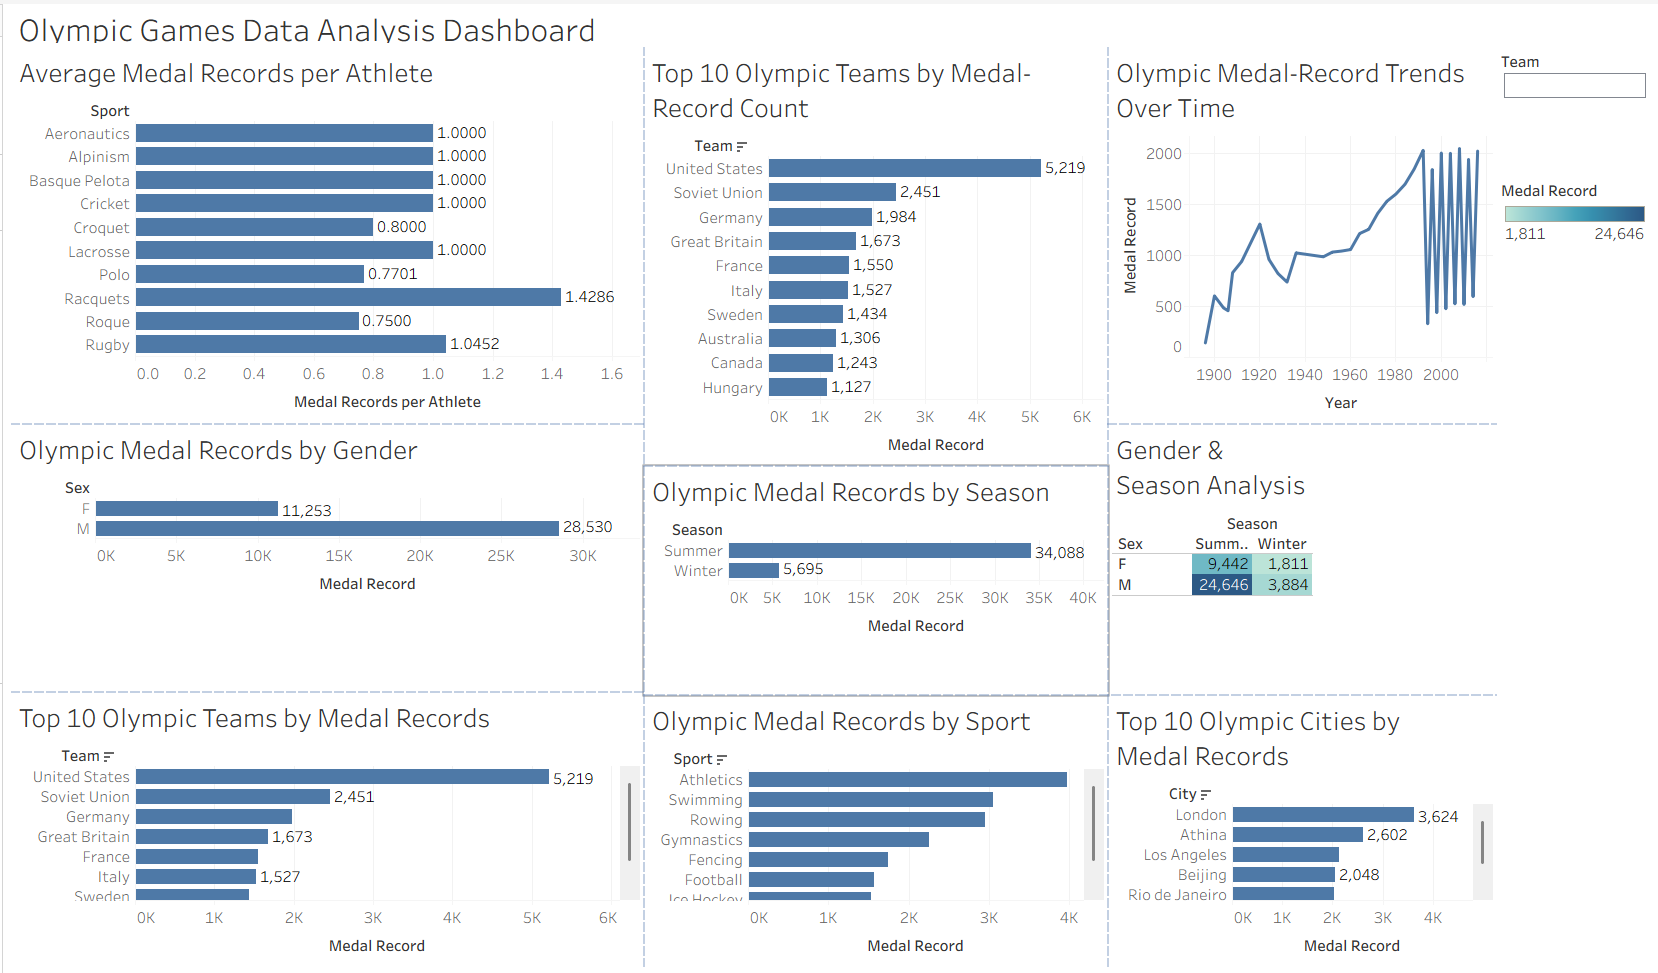

The page's visual inventory and layout, read from the dashboard file:
{"tool":"tableau","page":{"name":"Olympic Games Data Analysis Dashboard","canvas":[1000,1000],"units":"permille","ordinal":0},"visuals":[{"type":"title","box":[4.8,8.2,990.3,36.1]},{"type":"worksheet","title":"Average Medal Records per Athlete","mark":"Automatic","rows":["Sport"],"cols":["Calculation_0995942640828418"],"box":[4.8,44.3,381.8,388.2]},{"type":"worksheet","title":"Top 10 Olympic Teams by Medal-Record Count","mark":"Automatic","rows":["Team"],"cols":["Calculation_0995942636539904"],"box":[386.6,44.3,279.9,431.5]},{"type":"worksheet","title":"Olympic Medal-Record Trends Over Time","mark":"Automatic","rows":["Calculation_0995942636539904"],"cols":["Year"],"box":[666.5,44.3,234.6,388.2]},{"type":"filter","title":"Top 10 Olympic Teams by Medal Records","param":"[federated.0dl7chf0q4bfbs12mw7hb03cpaq7].[none:Team:nk]","box":[901.1,44.3,94.1,132.8]},{"type":"legend","title":"Gender & Season Analysis","param":"[federated.0dl7chf0q4bfbs12mw7hb03cpaq7].[sum:Calculation_0995942636539904:qk]","box":[901.1,177.1,94.1,75.2]},{"type":"worksheet","title":"Olympic Medal Records by Gender","mark":"Automatic","rows":["Sex"],"cols":["Calculation_0995942636539904"],"box":[4.8,432.5,381.8,276]},{"type":"worksheet","title":"Gender & Season Analysis","mark":"Automatic","rows":["Sex"],"cols":["Season"],"box":[666.5,432.5,234.6,279.1]},{"type":"worksheet","title":"Olympic Medal Records by Season","mark":"Automatic","rows":["Season"],"cols":["Calculation_0995942636539904"],"box":[386.6,475.8,279.9,236.2]},{"type":"worksheet","title":"Top 10 Olympic Teams by Medal Records","mark":"Automatic","rows":["Team"],"cols":["Calculation_0995942636539904"],"box":[4.8,708.6,381.8,283.2]},{"type":"worksheet","title":"Top 10 Olympic Cities by Medal Records","mark":"Automatic","rows":["City"],"cols":["Calculation_0995942636539904"],"box":[666.5,711.6,234.6,280.1]},{"type":"worksheet","title":"Olympic Medal Records by Sport","mark":"Automatic","rows":["Sport"],"cols":["Calculation_0995942636539904"],"box":[386.6,712,279.9,279.8]}]}

Visuals, with their boxes on the dashboard's canvas, which has no fixed pixel size, in thousandths of its width and height (x1, y1, x2, y2). These are canvas units, not pixel positions in the 1658x973 screenshot, which may show the page scaled, cropped or inside an application window:
title: {"left": 5, "top": 8, "right": 995, "bottom": 44}
"Average Medal Records per Athlete" worksheet: {"left": 5, "top": 44, "right": 387, "bottom": 432}
"Top 10 Olympic Teams by Medal-Record Count" worksheet: {"left": 387, "top": 44, "right": 666, "bottom": 476}
"Olympic Medal-Record Trends Over Time" worksheet: {"left": 666, "top": 44, "right": 901, "bottom": 432}
"Top 10 Olympic Teams by Medal Records" filter: {"left": 901, "top": 44, "right": 995, "bottom": 177}
"Gender & Season Analysis" legend: {"left": 901, "top": 177, "right": 995, "bottom": 252}
"Olympic Medal Records by Gender" worksheet: {"left": 5, "top": 432, "right": 387, "bottom": 708}
"Gender & Season Analysis" worksheet: {"left": 666, "top": 432, "right": 901, "bottom": 712}
"Olympic Medal Records by Season" worksheet: {"left": 387, "top": 476, "right": 666, "bottom": 712}
"Top 10 Olympic Teams by Medal Records" worksheet: {"left": 5, "top": 709, "right": 387, "bottom": 992}
"Top 10 Olympic Cities by Medal Records" worksheet: {"left": 666, "top": 712, "right": 901, "bottom": 992}
"Olympic Medal Records by Sport" worksheet: {"left": 387, "top": 712, "right": 666, "bottom": 992}
